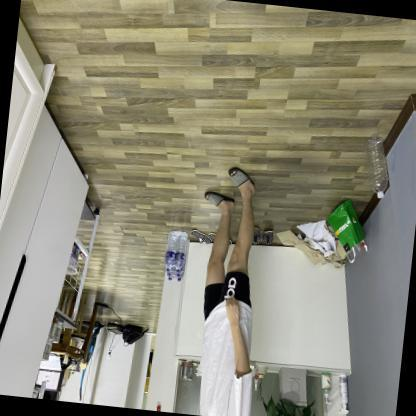no_safety-shoe: (221, 163, 275, 203), (194, 188, 237, 220)
